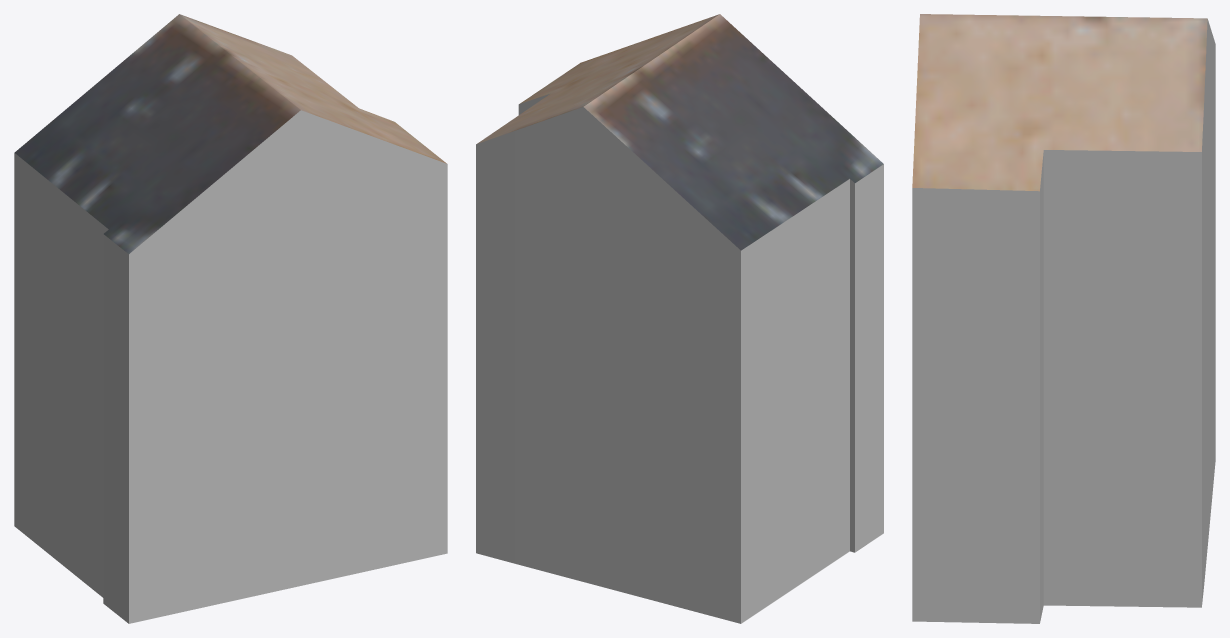
File: DEBW_0010007TxbE.gltf
3 renders of one model, left to right at view 1: azimuth 30°, elevation 25°; view 2: azimuth 150°, elevation 25°; view 3: azimuth 270°, elevation 25°, orthographic. The views are drawn at different scales.
Parts seen in each view (by area): view 1: Z_UP; view 2: Z_UP; view 3: Z_UP.
Part boxes in pixels (x1,y1,x2,y2): Z_UP: [14, 14, 447, 623]; Z_UP: [476, 14, 883, 623]; Z_UP: [912, 14, 1215, 623].
Size of the model in its own units: 12.63 by 18.19 by 9.44.
Materials: 2 (1 with a texture image).
